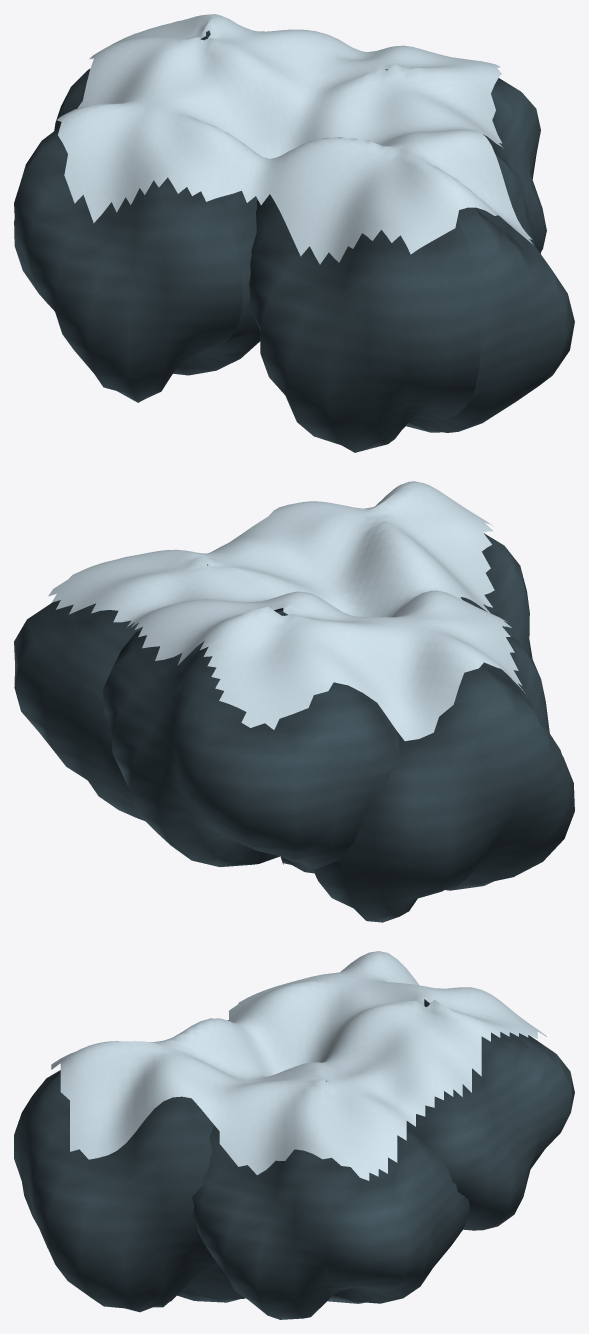
Rendered from stone.glb.
3 views of the same model, one above another, from view 1: azimuth 30°, elevation 25°; view 2: azimuth 150°, elevation 25°; view 3: azimuth 270°, elevation 25° (orthographic). The views are drawn at different scales.
Parts seen in each view (by area): view 1: stone; view 2: stone; view 3: stone.
Boxes of the visible parts, x1,y1,x2,y2 form: stone: (14,14,574,452); stone: (14,481,574,922); stone: (14,951,574,1319).
Size of the model in its own units: 1.54 by 0.8892 by 1.61.
2 materials, 2 textured.
